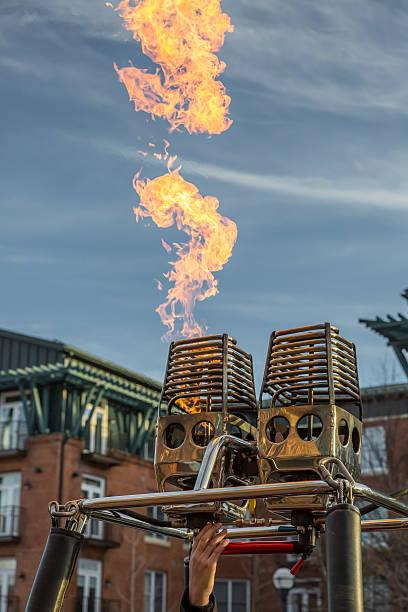Fire: (112, 7, 236, 330)
